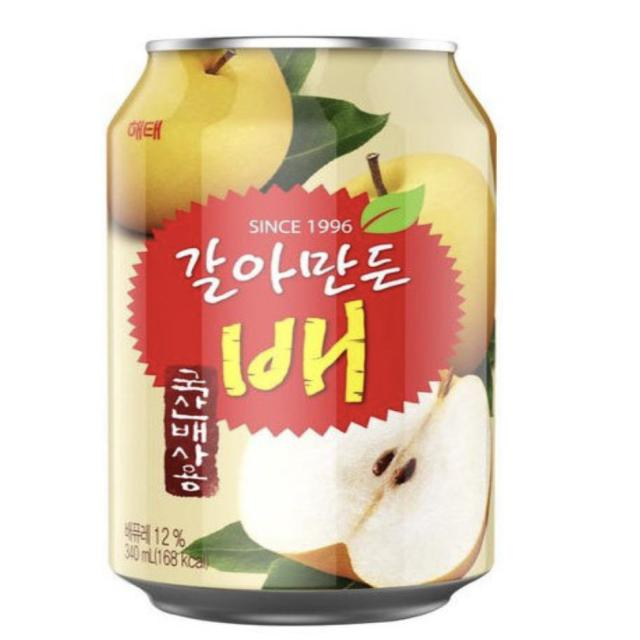recyclable: (61, 12, 554, 634)
